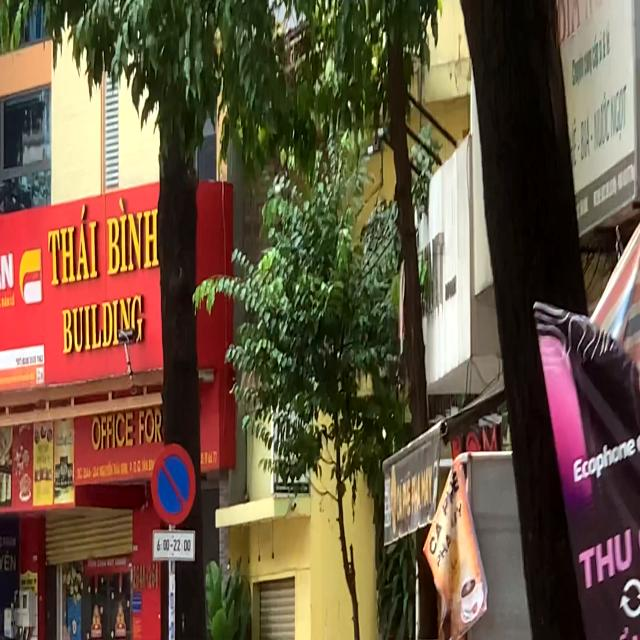P.131a: (151, 444, 197, 524)
